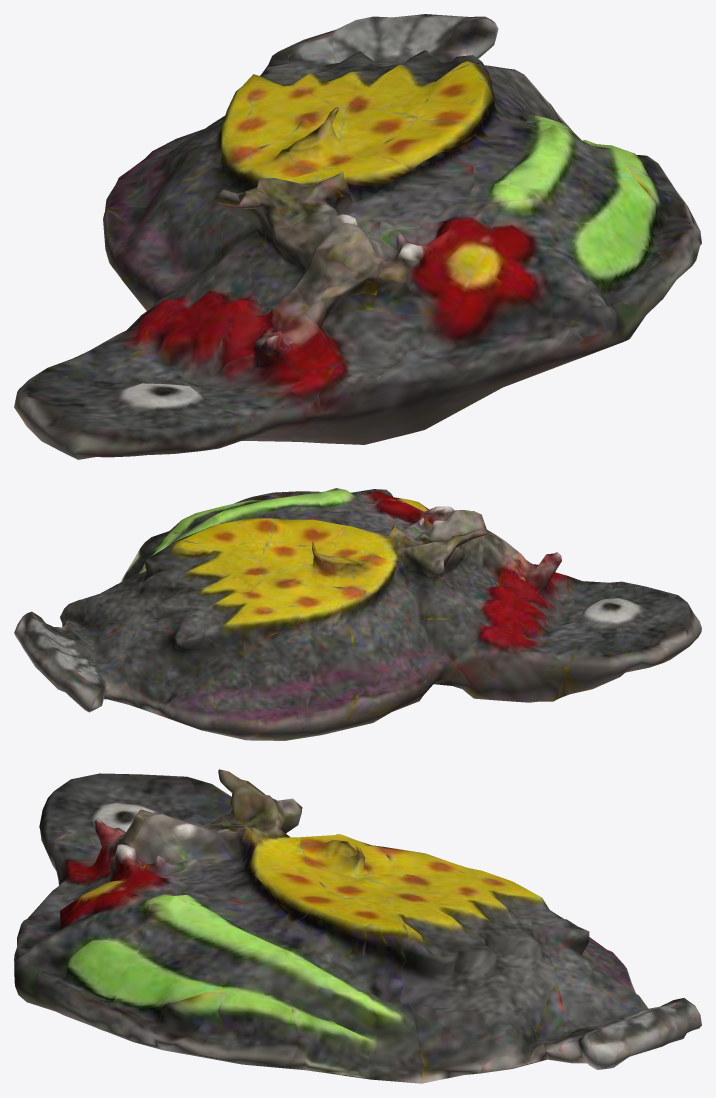
Rendered from hall.glb.
3 views of the same model, one above another, from view 1: azimuth 30°, elevation 25°; view 2: azimuth 150°, elevation 25°; view 3: azimuth 270°, elevation 25° (orthographic). The views are drawn at different scales.
Bounding box in the file's own units: 0.925 × 0.2684 × 0.8644.
1 material, 1 textured.
